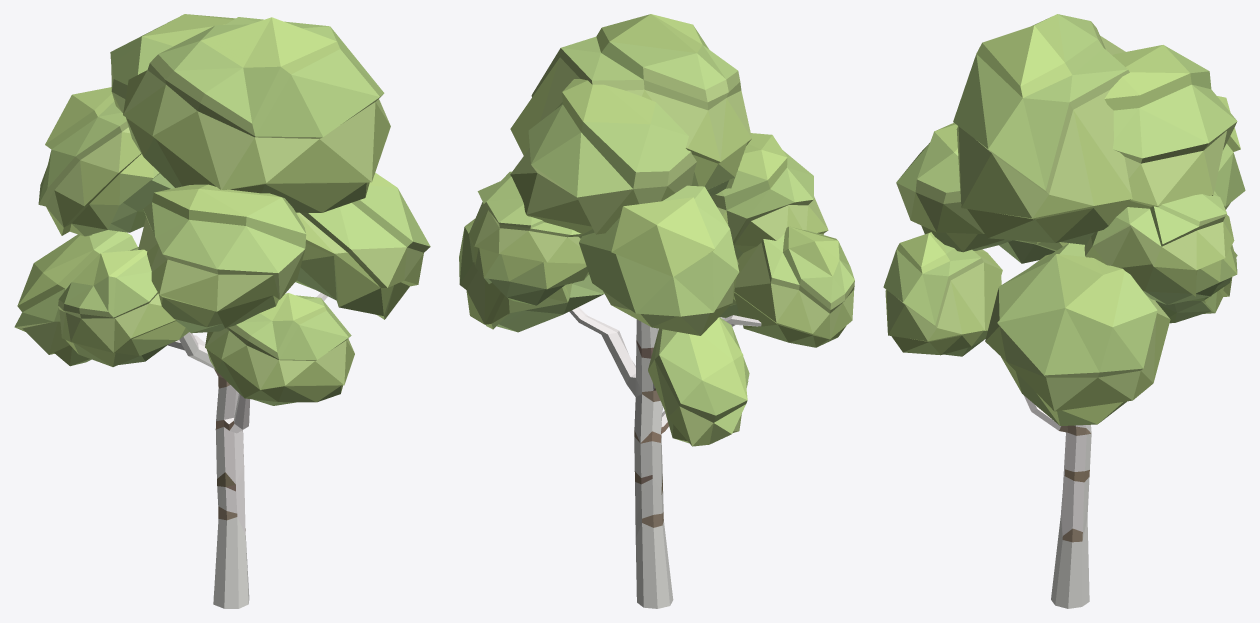
Rendered from birch_tree_06.glb.
The picture shows the model from 3 angles, left to right: view 1: azimuth 30°, elevation 25°; view 2: azimuth 150°, elevation 25°; view 3: azimuth 270°, elevation 25°; orthographic projection. The views are drawn at different scales.
Visible parts, largest first — view 1: PP_Birch_Tree_06.002; view 2: PP_Birch_Tree_06.002; view 3: PP_Birch_Tree_06.002.
Boxes of the visible parts, box(x1,y1,x2,y2) form: PP_Birch_Tree_06.002: box(14, 14, 430, 608); PP_Birch_Tree_06.002: box(459, 14, 854, 608); PP_Birch_Tree_06.002: box(883, 14, 1245, 608).
Bounding box in the file's own units: 5.1 × 7.76 × 4.34.
